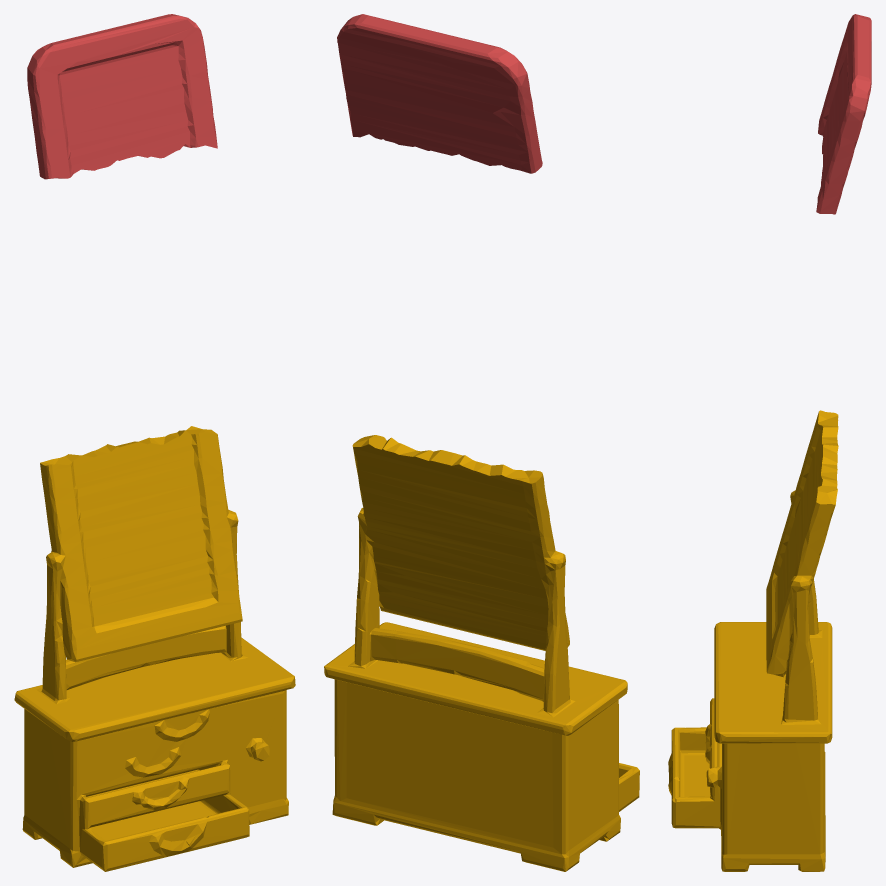
The model's file is fractured_45_2pcs_transformed.glb.
The picture shows the model from 3 angles, left to right: view 1: azimuth 30°, elevation 25°; view 2: azimuth 150°, elevation 25°; view 3: azimuth 270°, elevation 25°; orthographic projection. The views are drawn at different scales.
Parts seen in each view (by area): view 1: piece_0.obj, piece_1.obj; view 2: piece_0.obj, piece_1.obj; view 3: piece_0.obj, piece_1.obj.
Boxes of the visible parts, <box> form: piece_0.obj: <box>14,426,295,871</box>; piece_1.obj: <box>27,14,217,179</box>; piece_0.obj: <box>324,435,639,871</box>; piece_1.obj: <box>337,14,542,173</box>; piece_0.obj: <box>668,410,838,871</box>; piece_1.obj: <box>816,14,871,214</box>.
Bounding box in the file's own units: 0.502 × 1.6 × 0.3814.
